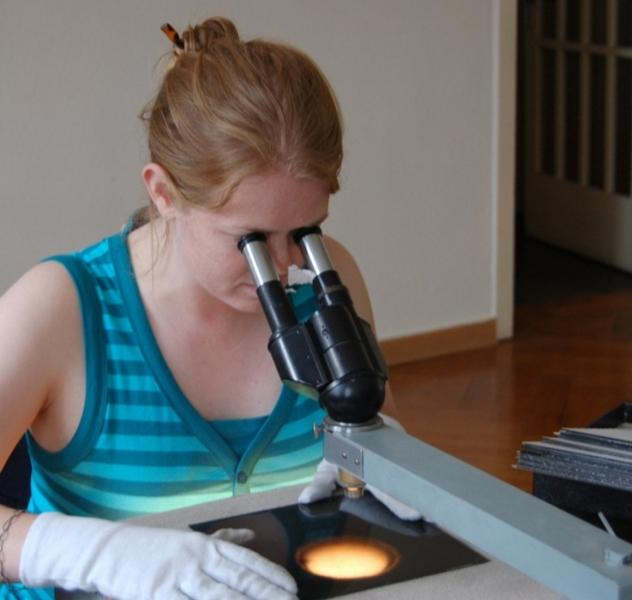person: (4, 15, 403, 600)
